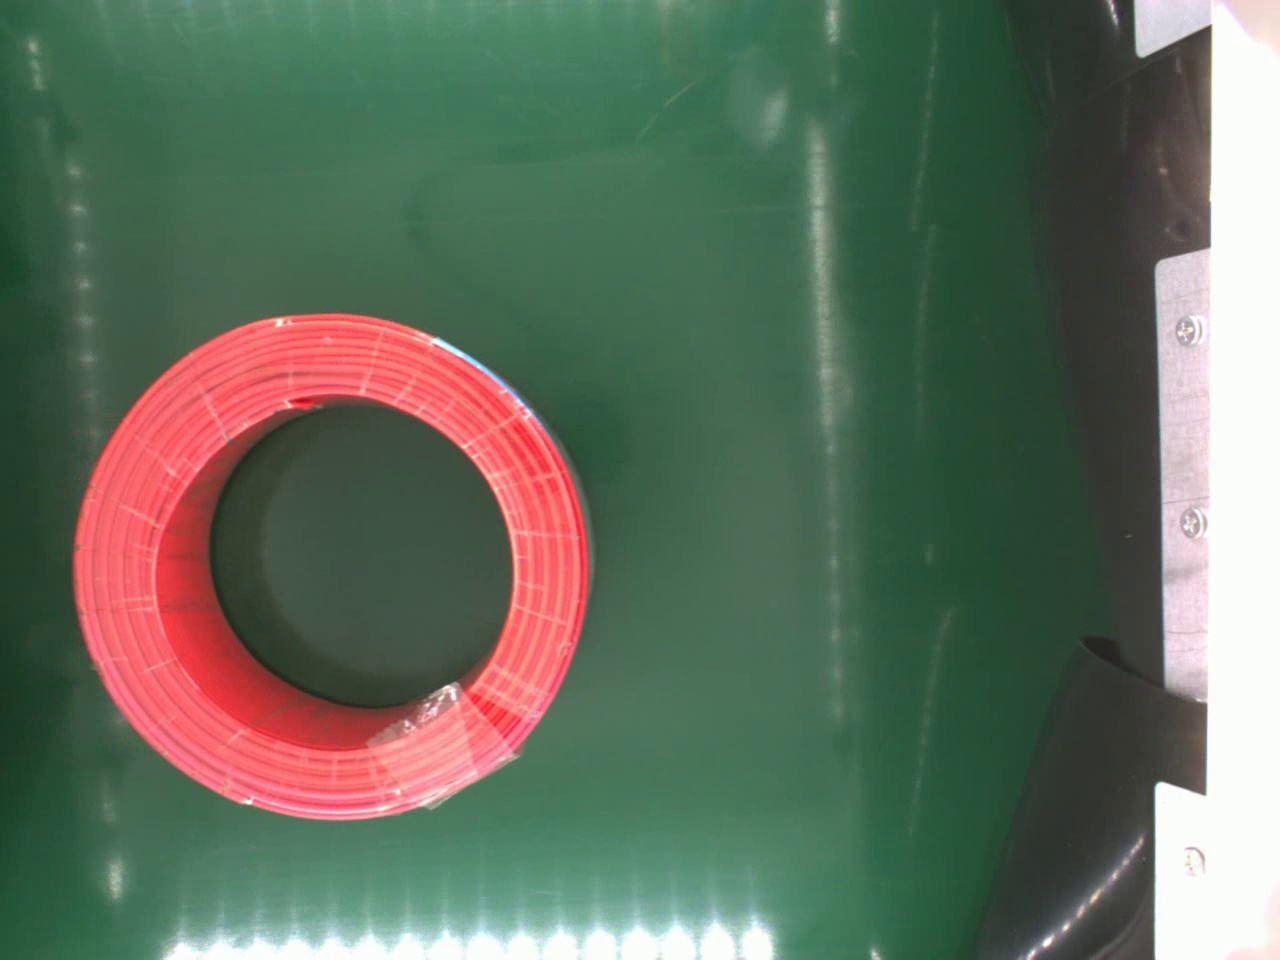red: (65, 310, 596, 824)
